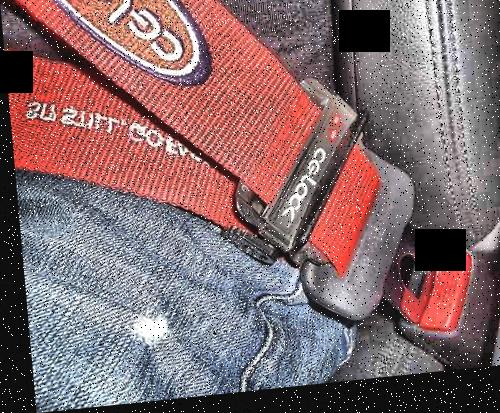seatbelt: (34, 0, 467, 369)
